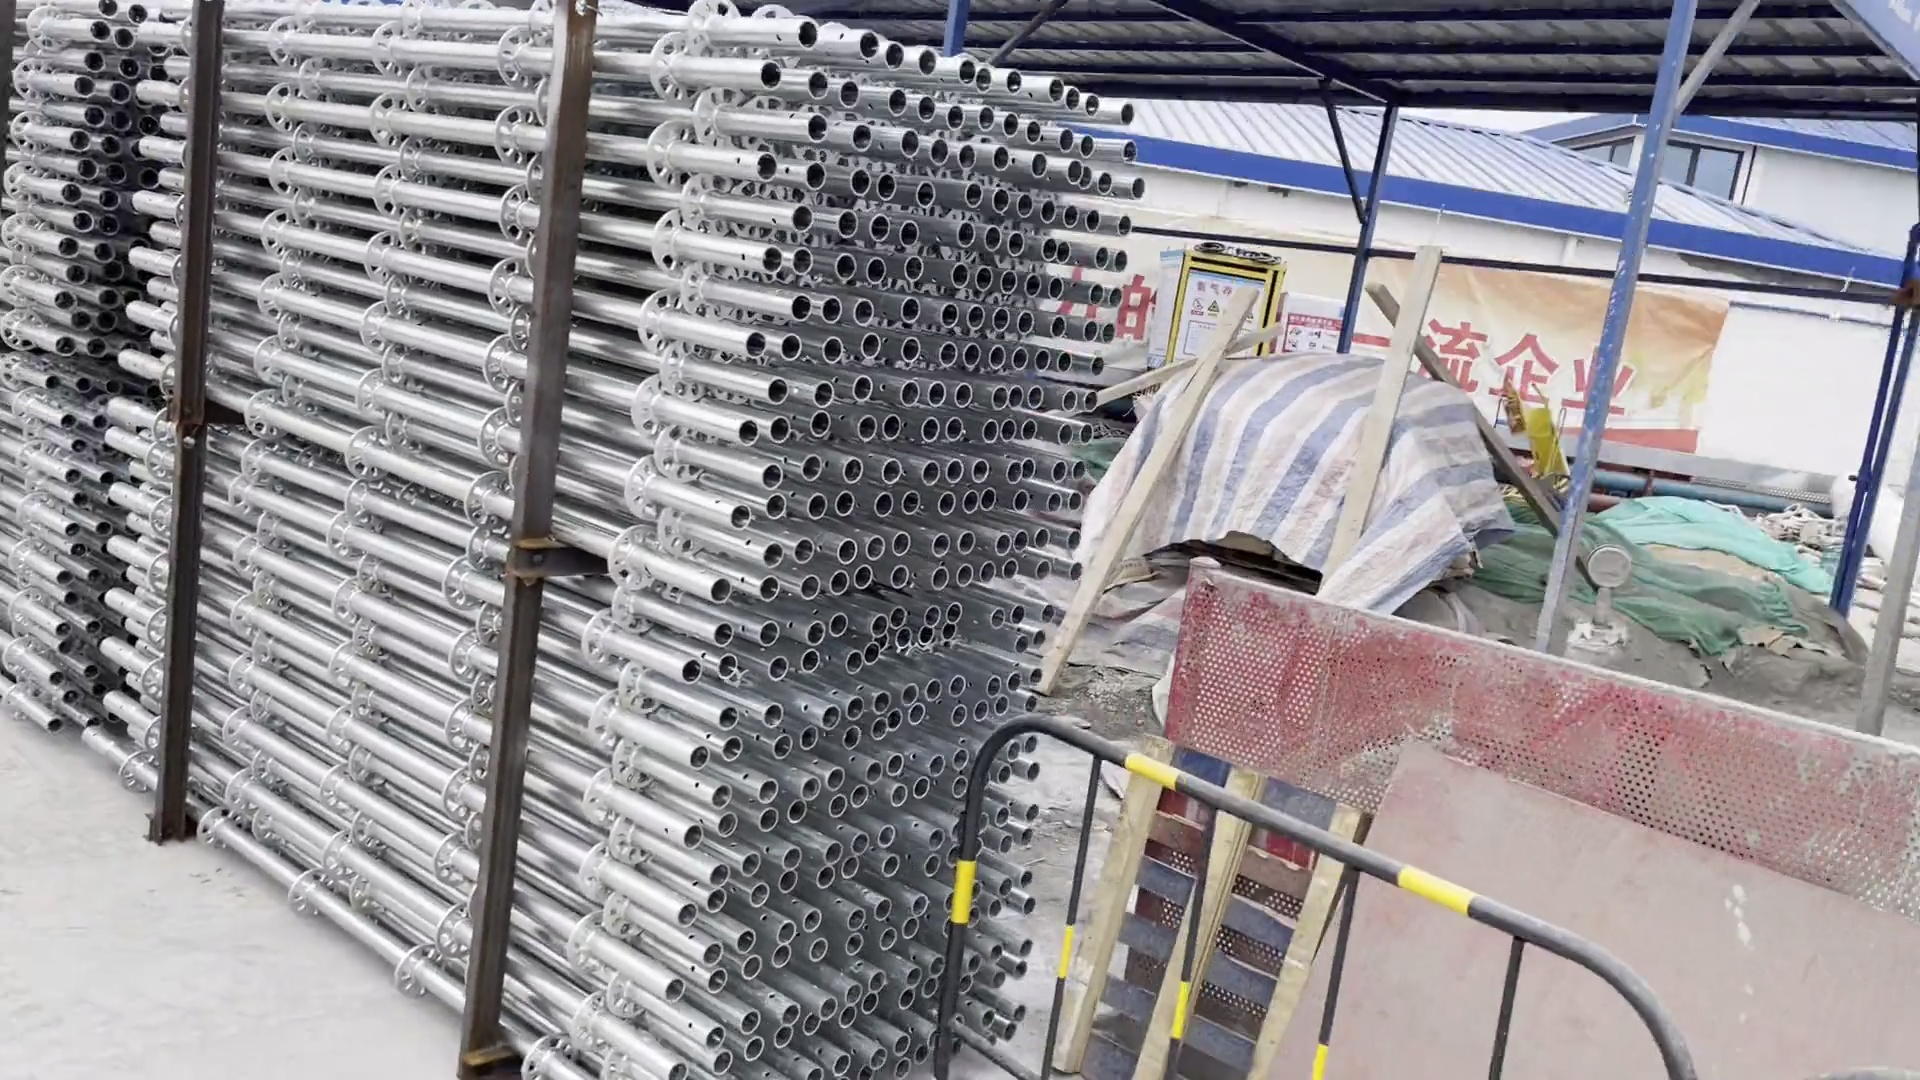scaffold: (17, 13, 1143, 1075)
